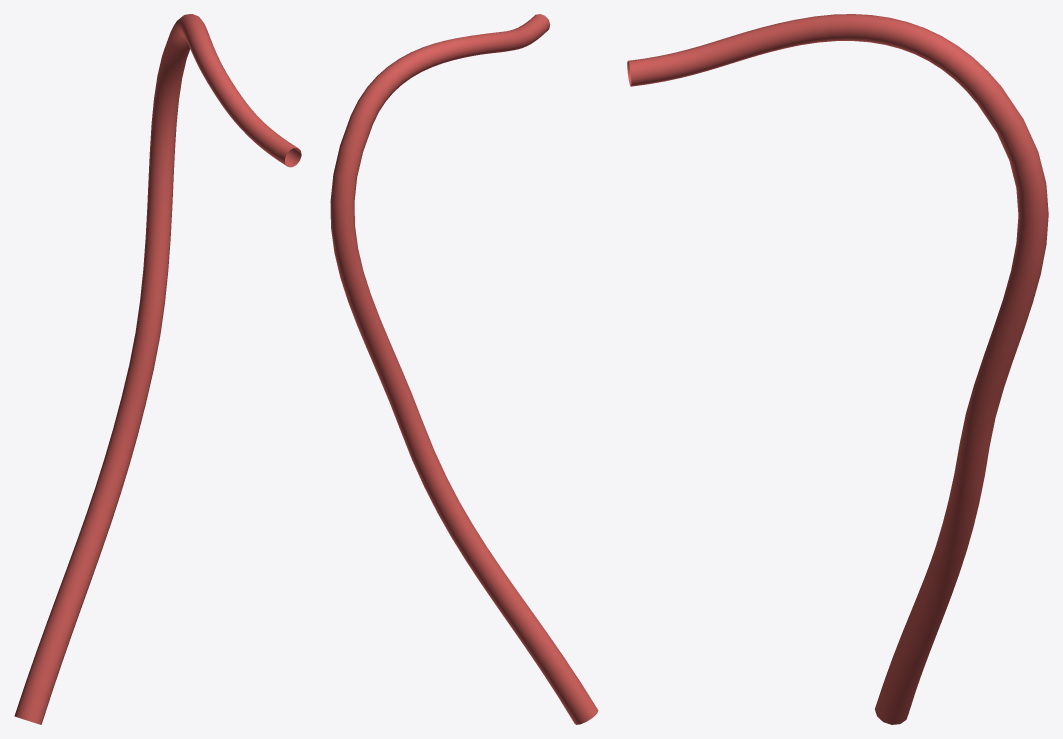
3 views of the same model, side by side, from view 1: azimuth 30°, elevation 25°; view 2: azimuth 150°, elevation 25°; view 3: azimuth 270°, elevation 25° (orthographic). The views are drawn at different scales.
Parts seen in each view (by area): view 1: 左侧旋肩胛动脉; view 2: 左侧旋肩胛动脉; view 3: 左侧旋肩胛动脉.
Part boxes in pixels (x1,y1,x2,y2): 左侧旋肩胛动脉: (14, 14, 301, 724); 左侧旋肩胛动脉: (330, 14, 598, 724); 左侧旋肩胛动脉: (627, 14, 1048, 724).
Bounding box in the file's own units: 0.0207 × 0.0599 × 0.0286.
